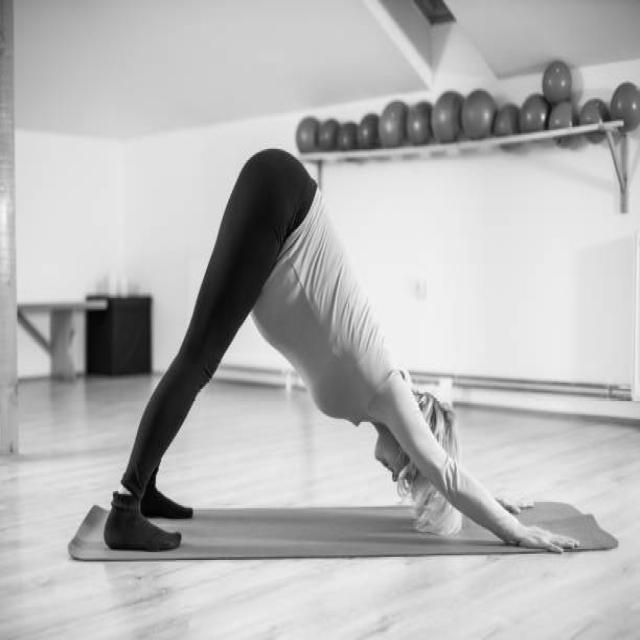Downward-Facing_Dog: (98, 148, 580, 556)
